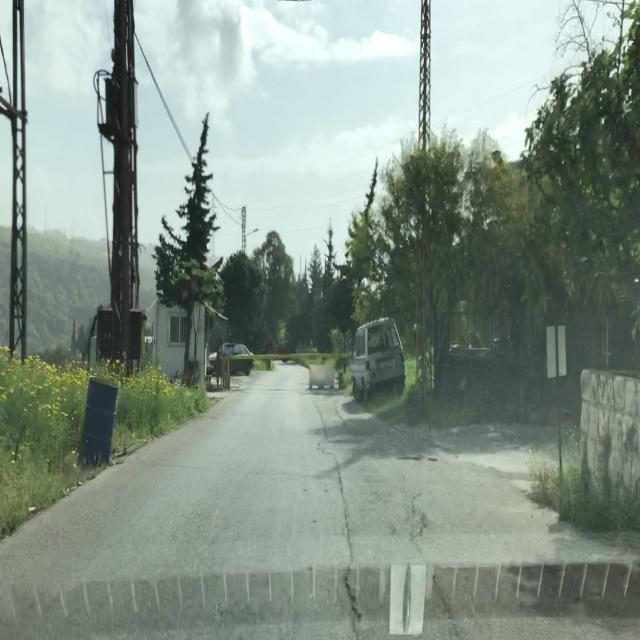Pothole: (405, 508, 430, 542), (396, 455, 438, 463)
